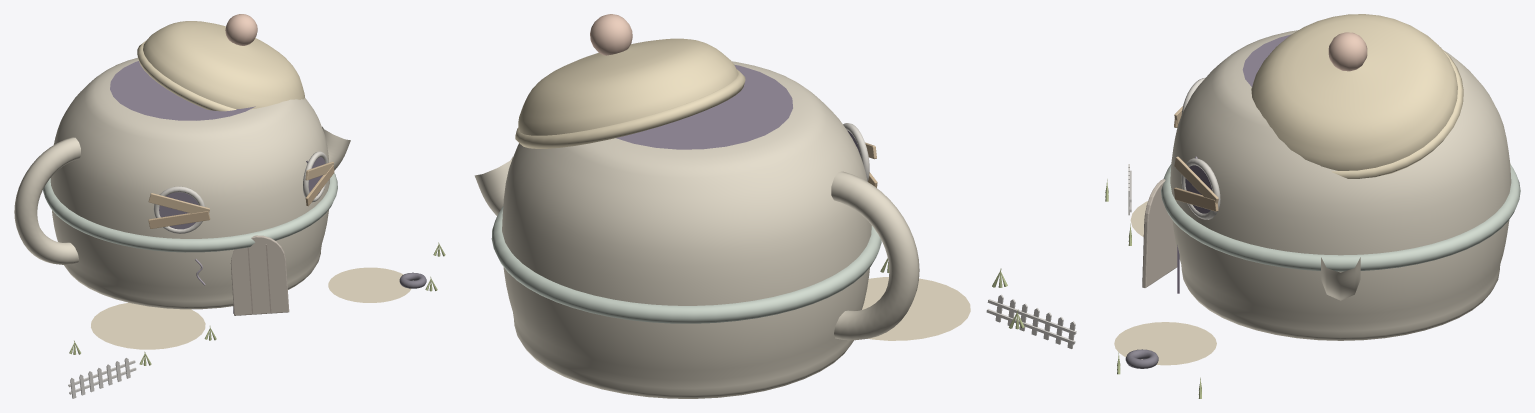
The model's file is building_kitchen_L01.glb.
3 renders of one model, left to right at view 1: azimuth 30°, elevation 25°; view 2: azimuth 150°, elevation 25°; view 3: azimuth 270°, elevation 25°, orthographic. The views are drawn at different scales.
Visible parts, largest first — view 1: Body, kitchen_L1; view 2: Body, kitchen_L1; view 3: Body, kitchen_L1.
Part boxes in pixels (box(x1,y1,x2,y2)): Body: box(14, 14, 350, 315); kitchen_L1: box(68, 242, 445, 398); Body: box(474, 14, 919, 398); kitchen_L1: box(862, 258, 1076, 348); Body: box(1142, 14, 1520, 340); kitchen_L1: box(1105, 164, 1216, 398).
Bounding box in the file's own units: 24.39 × 14.63 × 17.78.
